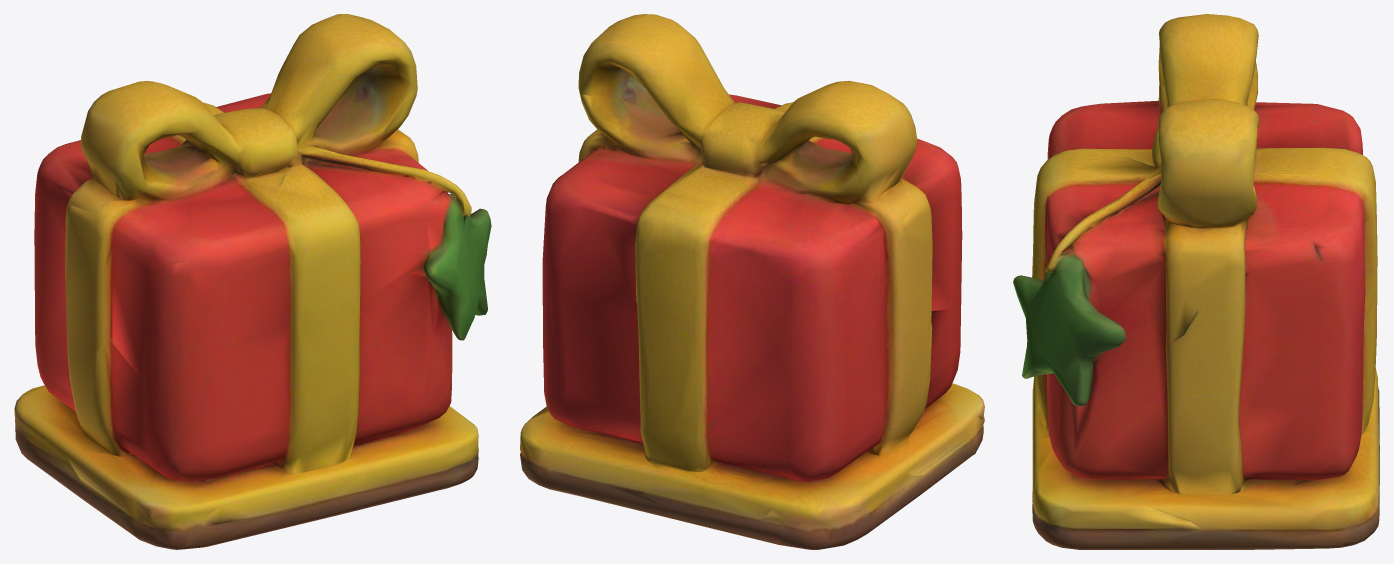
File: icon-event.glb
The picture shows the model from 3 angles, left to right: view 1: azimuth 30°, elevation 25°; view 2: azimuth 150°, elevation 25°; view 3: azimuth 270°, elevation 25°; orthographic projection. The views are drawn at different scales.
Visible parts, largest first — view 1: Mesh_0; view 2: Mesh_0; view 3: Mesh_0.
Boxes of the visible parts, bbox=[...] form: Mesh_0: bbox=[14, 14, 491, 549]; Mesh_0: bbox=[520, 14, 984, 549]; Mesh_0: bbox=[1013, 14, 1379, 549].
Bounding box in the file's own units: 1.88 × 2 × 1.59.
1 material, 1 textured.
